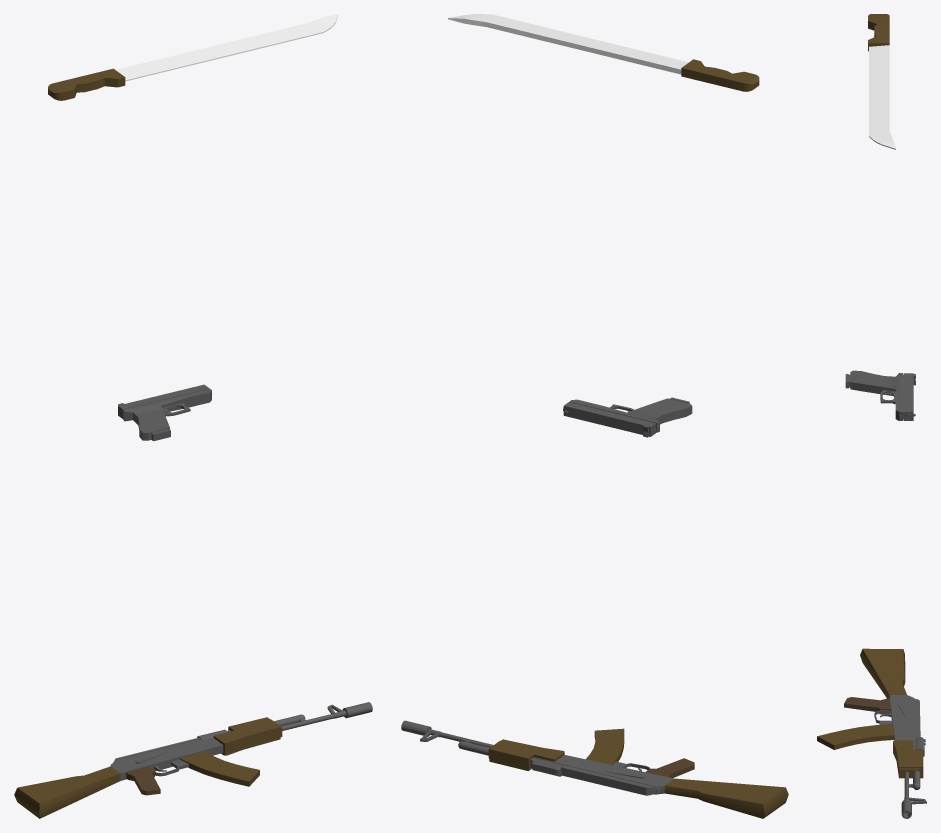
The model's file is Weapons.dae.
3 renders of one model, left to right at view 1: azimuth 30°, elevation 25°; view 2: azimuth 150°, elevation 25°; view 3: azimuth 270°, elevation 25°, orthographic. The views are drawn at different scales.
Visible parts, largest first — view 1: AK74, Machete, Glock; view 2: AK74, Machete, Glock; view 3: AK74, Machete, Glock.
Boxes of the visible parts, bbox=[...] form: AK74: bbox=[14, 702, 372, 818]; Machete: bbox=[48, 14, 337, 100]; Glock: bbox=[118, 384, 211, 441]; AK74: bbox=[401, 720, 788, 818]; Machete: bbox=[448, 14, 759, 91]; Glock: bbox=[563, 397, 692, 437]; AK74: bbox=[817, 648, 926, 818]; Machete: bbox=[868, 14, 895, 149]; Glock: bbox=[845, 370, 915, 420].
Bounding box in the file's own units: 7.29 × 2.11 × 14.01.
